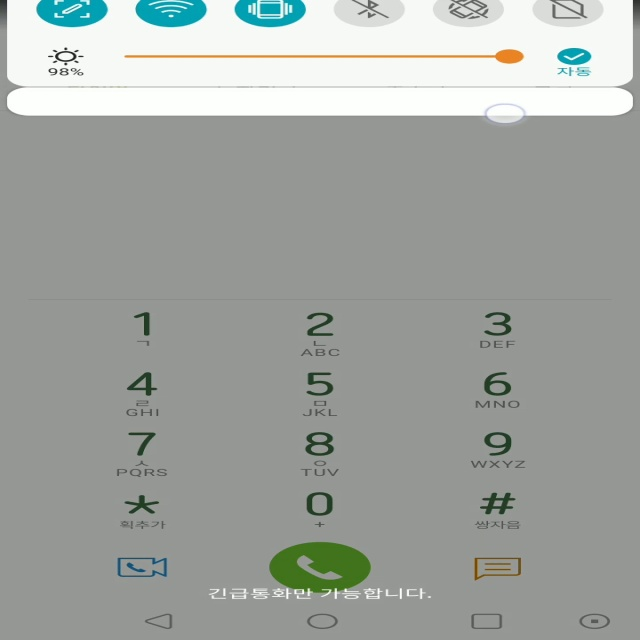Cursor: (482, 103, 527, 125)
